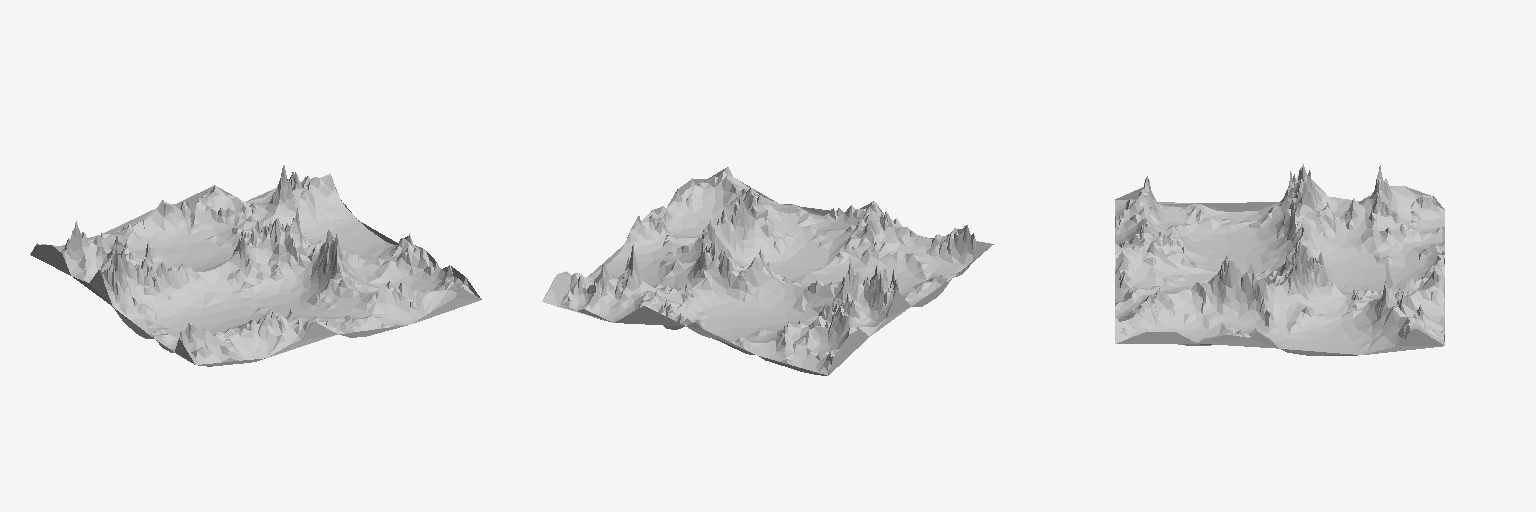
Rendered from bigland.obj.
The picture shows the model from 3 angles: view 1: azimuth 30°, elevation 25°; view 2: azimuth 150°, elevation 25°; view 3: azimuth 270°, elevation 25°; orthographic projection.
Parts seen in each view (by area): view 1: mountains; view 2: mountains; view 3: mountains.
Part boxes in pixels (x1,y1,x2,y2): mountains: (30, 165, 481, 366); mountains: (542, 167, 993, 375); mountains: (1115, 164, 1444, 355).
Size of the model in its own units: 1086 by 241 by 1086.